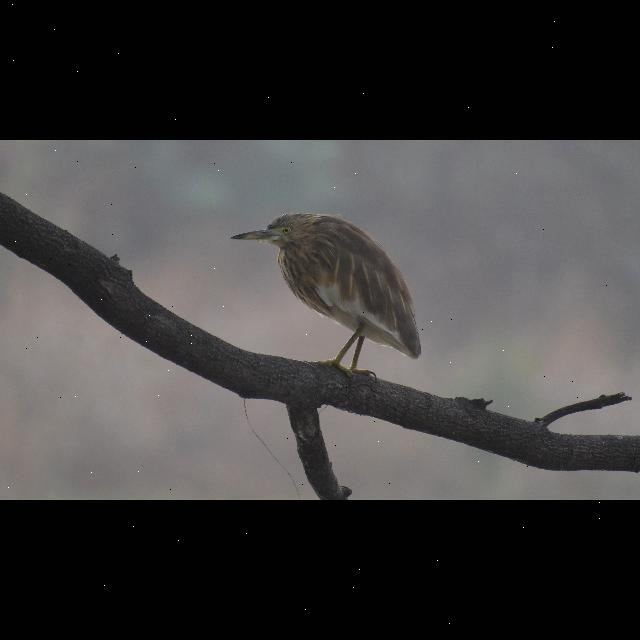heron: (226, 210, 432, 390)
